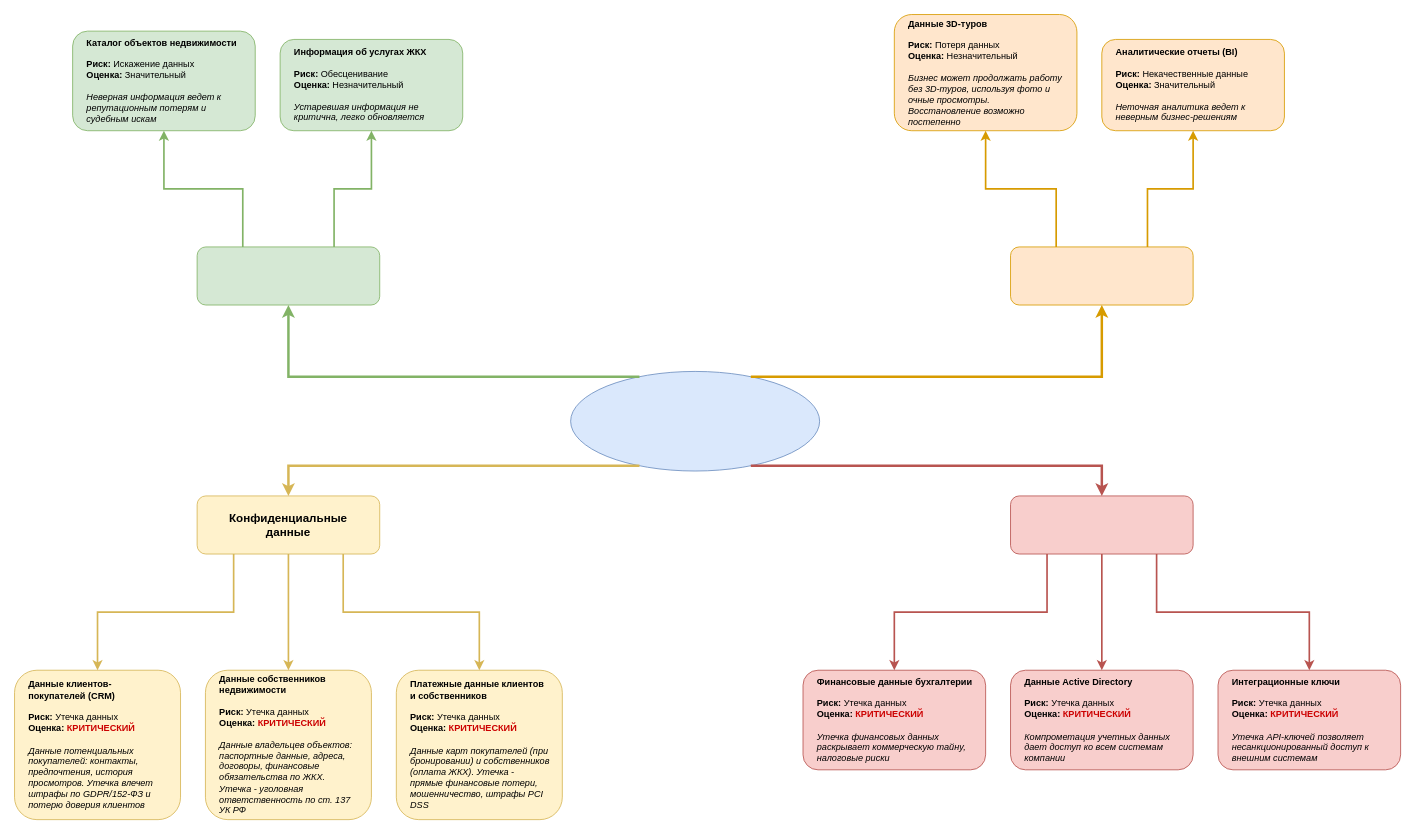
This 1415x834 diagram has some shape labels left out. Here are the shapes that lost their labels. From the top down, the box of each, then its label:
(196, 246, 380, 305): Публичные данные
(1010, 246, 1193, 305): Внутренние данные
(570, 371, 820, 471): Безопасность данных PropDevelopment
(1010, 495, 1193, 554): Секретные данные
